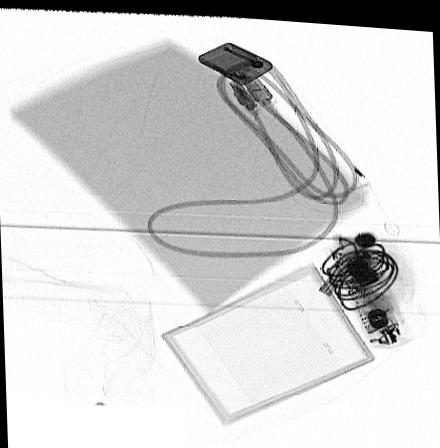Lighter: (199, 38, 272, 82)
